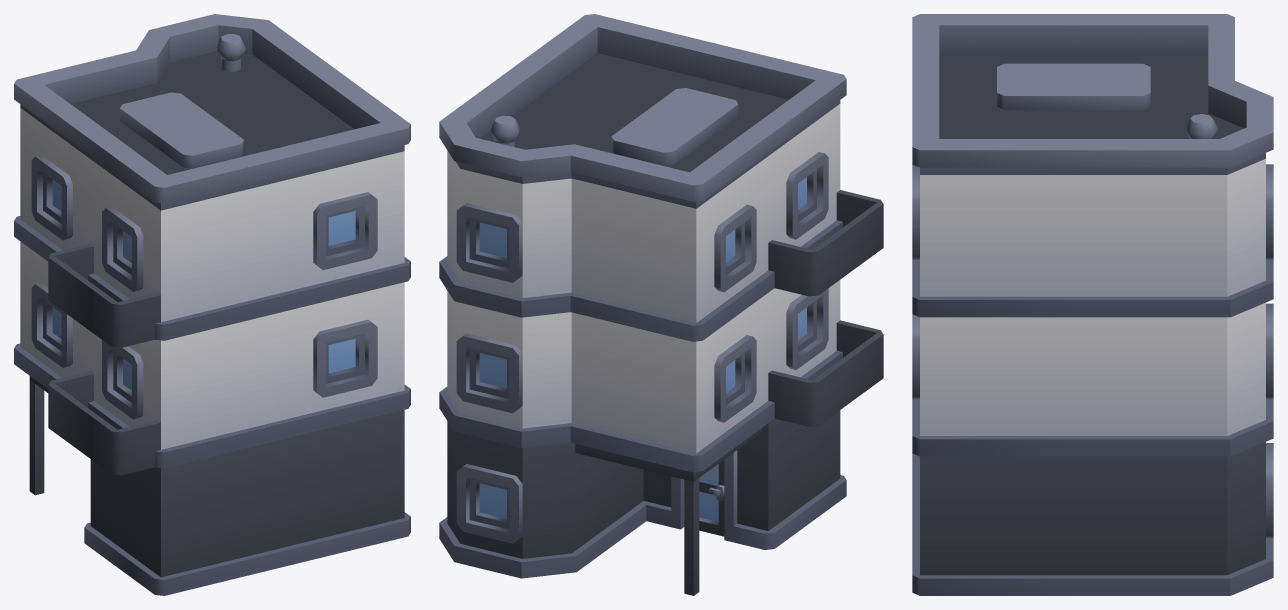
Rendered from library.draco.glb.
3 views of the same model, side by side, from view 1: azimuth 30°, elevation 25°; view 2: azimuth 150°, elevation 25°; view 3: azimuth 270°, elevation 25° (orthographic). The views are drawn at different scales.
Parts seen in each view (by area): view 1: building-b; view 2: building-b; view 3: building-b.
Part boxes in pixels (bbox=[...]): building-b: bbox=[14, 14, 410, 595]; building-b: bbox=[439, 14, 883, 595]; building-b: bbox=[912, 14, 1273, 595].
Bounding box in the file's own units: 31786 × 42368 × 30802.
Materials: 1 (1 with a texture image).
